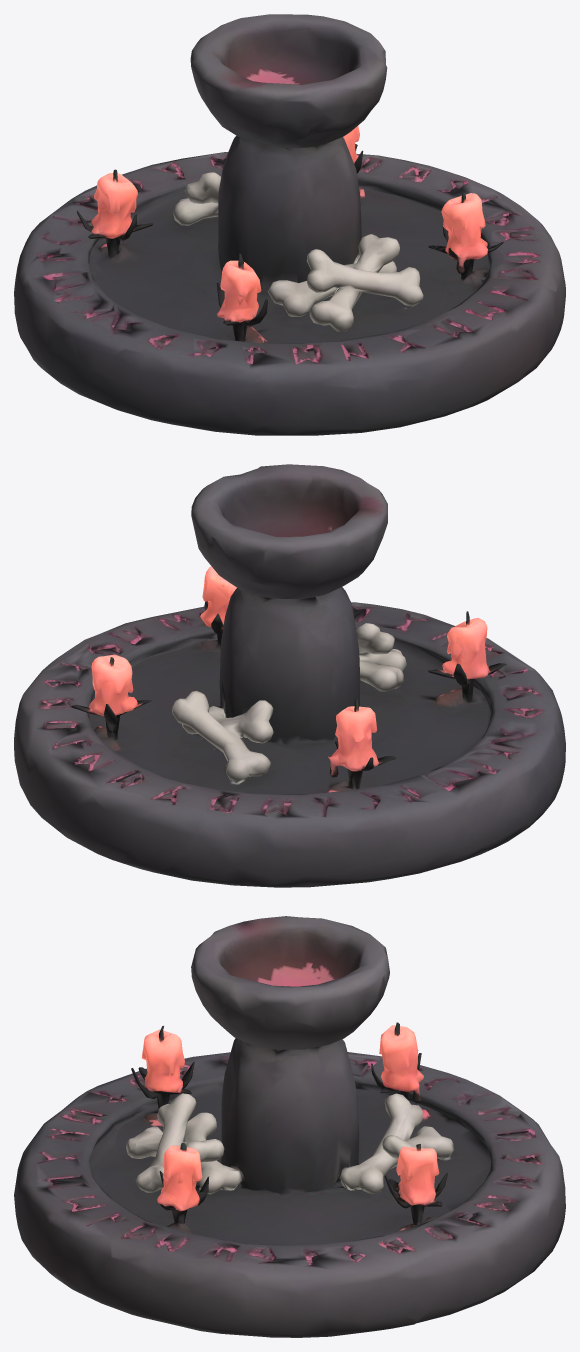
Rendered from ev_ritual-h08VjlLL.glb.
3 views of the same model, one above another, from view 1: azimuth 30°, elevation 25°; view 2: azimuth 150°, elevation 25°; view 3: azimuth 270°, elevation 25° (orthographic).
Parts seen in each view (by area): view 1: tripo_node_49113d10-28b2-43d4-a2c6-7c002715027f; view 2: tripo_node_49113d10-28b2-43d4-a2c6-7c002715027f; view 3: tripo_node_49113d10-28b2-43d4-a2c6-7c002715027f.
Part boxes in pixels (box(x1,y1,x2,y2)): tripo_node_49113d10-28b2-43d4-a2c6-7c002715027f: box(14, 14, 565, 435); tripo_node_49113d10-28b2-43d4-a2c6-7c002715027f: box(14, 464, 565, 887); tripo_node_49113d10-28b2-43d4-a2c6-7c002715027f: box(14, 916, 565, 1337).
Size of the model in its own units: 1 by 0.5469 by 0.9971.
1 material, 1 textured.
